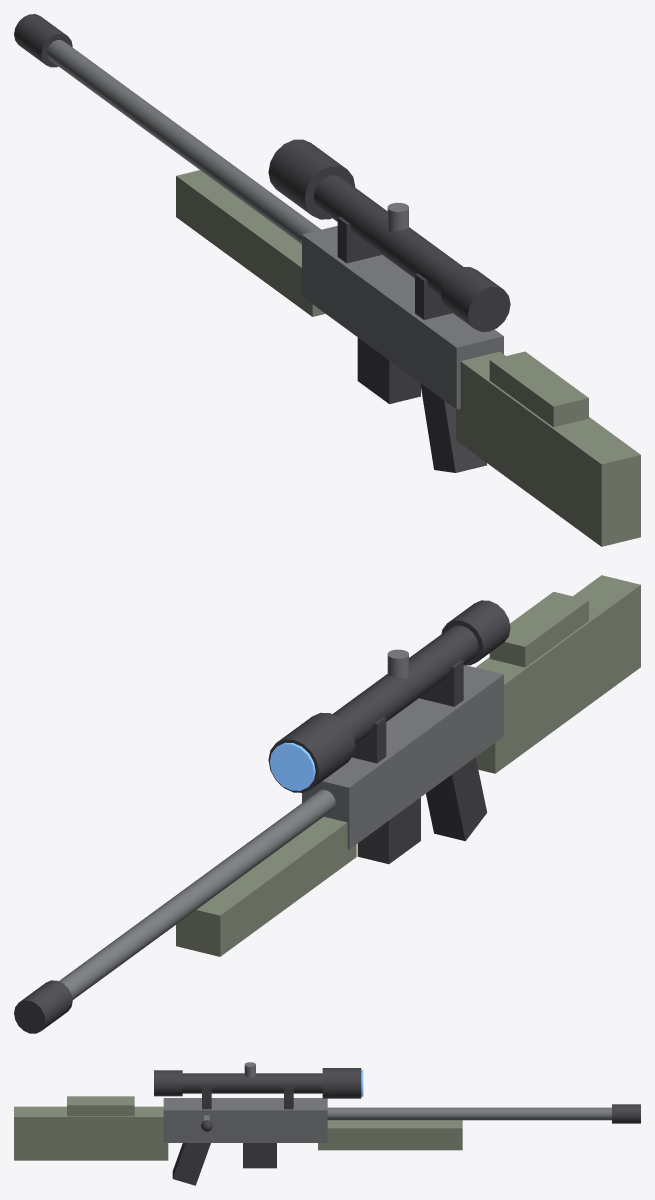
File: sniper.glb
The picture shows the model from 3 angles, top to bottom: view 1: azimuth 30°, elevation 25°; view 2: azimuth 150°, elevation 25°; view 3: azimuth 270°, elevation 25°; orthographic projection. The views are drawn at different scales.
Parts seen in each view (by area): view 1: Stock, Receiver, Forend, Barrel, Scope Tube, Cheek Rest, Objective Bell, Eyepiece, Grip, Magazine, Muzzle Brake, Scope Ring Front (+1 smaller); view 2: Receiver, Stock, Forend, Barrel, Scope Tube, Cheek Rest, Grip, Objective Bell, Magazine, Eyepiece, Muzzle Brake, Objective Lens (+2 smaller); view 3: Stock, Receiver, Forend, Barrel, Scope Tube, Cheek Rest, Objective Bell, Grip, Magazine, Eyepiece, Muzzle Brake, Scope Ring Front (+1 smaller).
Part boxes in pixels (x1=…): Stock: x1=456, y1=351, x2=640, y2=546; Receiver: x1=302, y1=226, x2=503, y2=409; Forend: x1=176, y1=170, x2=325, y2=316; Barrel: x1=47, y1=40, x2=320, y2=244; Scope Tube: x1=313, y1=175, x2=462, y2=297; Cheek Rest: x1=489, y1=351, x2=588, y2=427; Objective Bell: x1=268, y1=139, x2=355, y2=219; Eyepiece: x1=440, y1=267, x2=510, y2=331; Grip: x1=420, y1=383, x2=486, y2=472; Magazine: x1=357, y1=337, x2=420, y2=403; Muzzle Brake: x1=14, y1=14, x2=72, y2=67; Scope Ring Front: x1=337, y1=217, x2=381, y2=263; Receiver: x1=302, y1=665, x2=503, y2=849; Stock: x1=475, y1=575, x2=640, y2=773; Forend: x1=176, y1=816, x2=356, y2=956; Barrel: x1=59, y1=789, x2=335, y2=999; Scope Tube: x1=332, y1=625, x2=478, y2=744; Cheek Rest: x1=489, y1=591, x2=588, y2=667; Grip: x1=426, y1=757, x2=487, y2=841; Objective Bell: x1=268, y1=712, x2=355, y2=792; Magazine: x1=357, y1=797, x2=420, y2=864; Eyepiece: x1=441, y1=600, x2=510, y2=665; Muzzle Brake: x1=14, y1=980, x2=72, y2=1033; Objective Lens: x1=270, y1=742, x2=315, y2=790; Stock: x1=14, y1=1106, x2=168, y2=1160; Receiver: x1=163, y1=1098, x2=327, y2=1142; Forend: x1=318, y1=1120, x2=462, y2=1150; Barrel: x1=327, y1=1107, x2=611, y2=1120; Scope Tube: x1=182, y1=1073, x2=322, y2=1093; Cheek Rest: x1=67, y1=1096, x2=134, y2=1116; Objective Bell: x1=322, y1=1068, x2=361, y2=1098; Grip: x1=172, y1=1143, x2=210, y2=1185; Magazine: x1=243, y1=1143, x2=276, y2=1168; Eyepiece: x1=154, y1=1070, x2=182, y2=1096; Muzzle Brake: x1=612, y1=1104, x2=640, y2=1123; Scope Ring Front: x1=284, y1=1087, x2=293, y2=1109.
Size of the model in its own units: 0.114 by 0.268 by 1.3.
